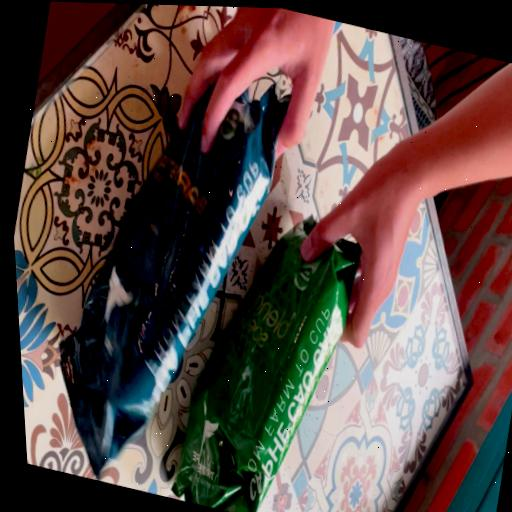cafe_hat: (59, 84, 288, 477)
cafe_xay: (171, 216, 358, 512)
